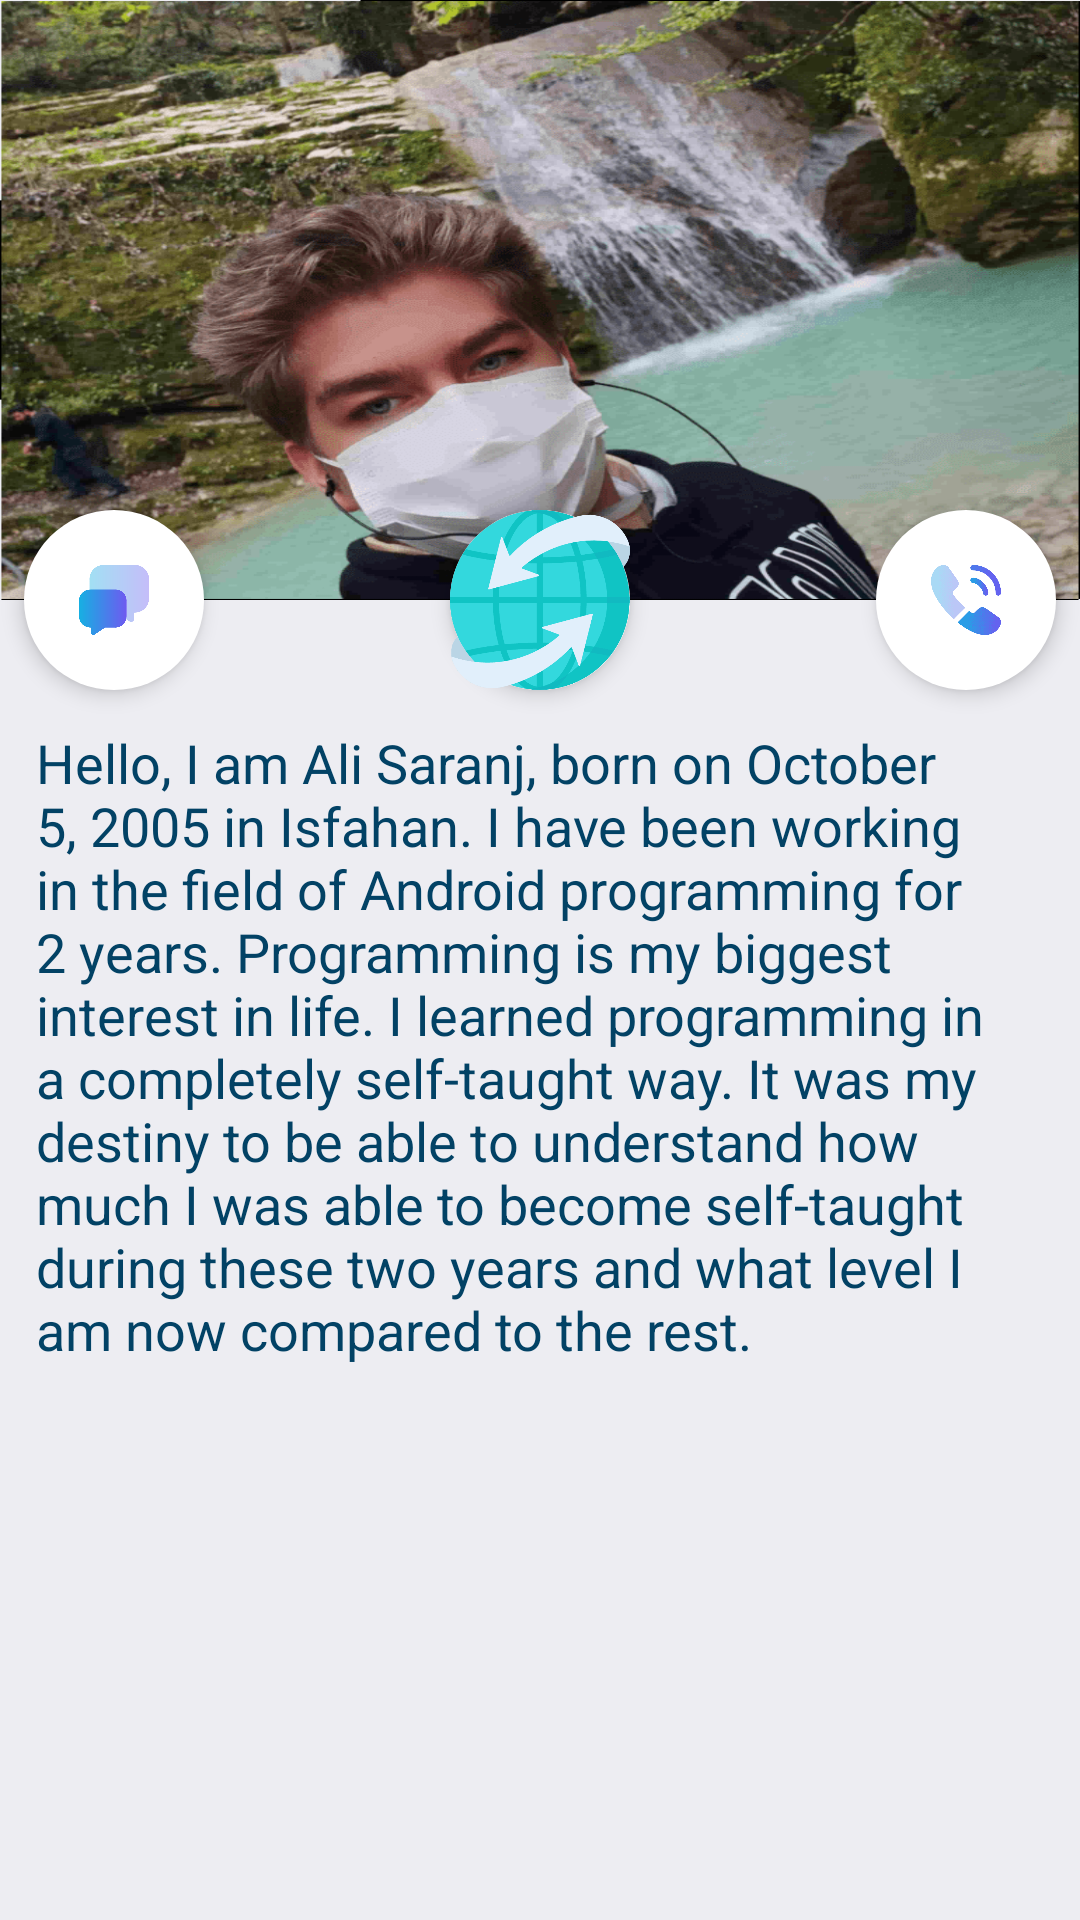

Icons on this 1080 x 1920 Android screen, each with the point to tap as [x,y]:
calling: [966,600]
chatting: [114,600]
worldwide: [540,600]
